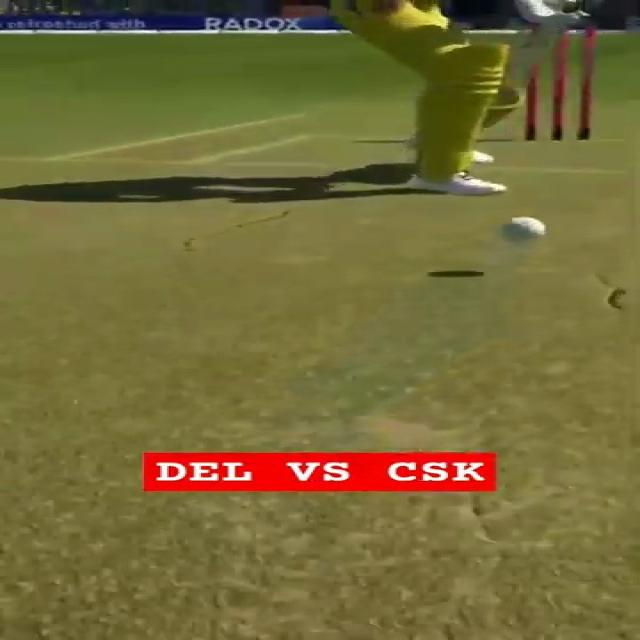ball: (496, 213, 549, 243)
